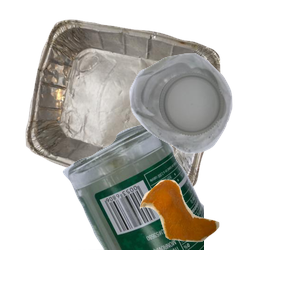glass: (60, 120, 300, 300)
metal: (23, 17, 236, 197)
plastic: (127, 51, 300, 197)
trash: (137, 177, 300, 300)
